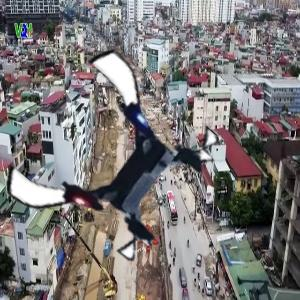drone: (19, 70, 204, 255)
